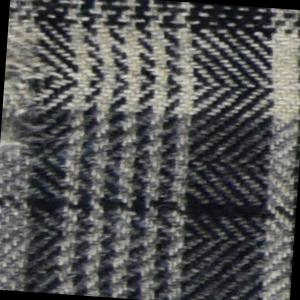Damage: (1, 34, 72, 168)
